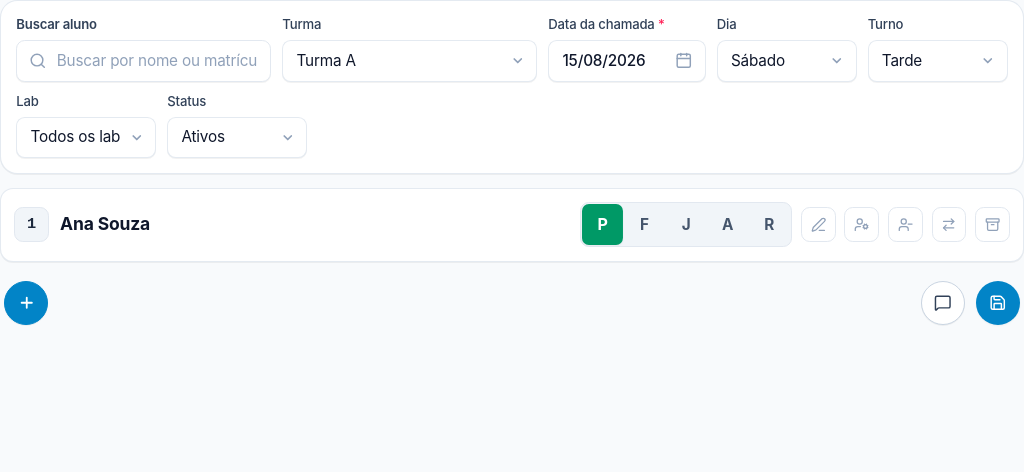
Test case: AttendancePage › searches by registration and exposes individual and general notes
Expected: the text "Ana Souza" is shown, 60,211 -> 150,238
Type "001" into the field named "Buscar aluno na chamada". click: (144, 61)
box: 16,40 -> 271,82
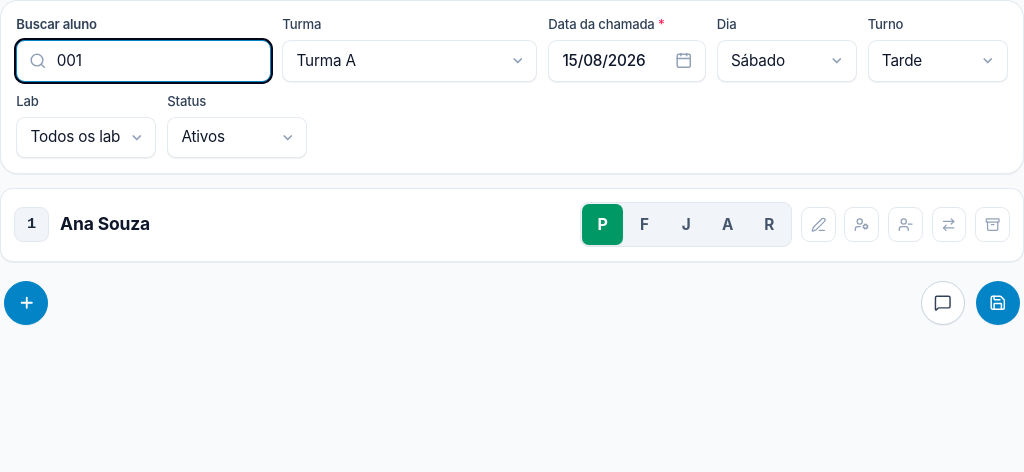
Expected: the text "Ana Souza" is shown, 60,211 -> 150,238
Replace the text in the field named "Buscar aluno na chamada" with "inexistente". click: (144, 61)
box: 16,40 -> 271,82
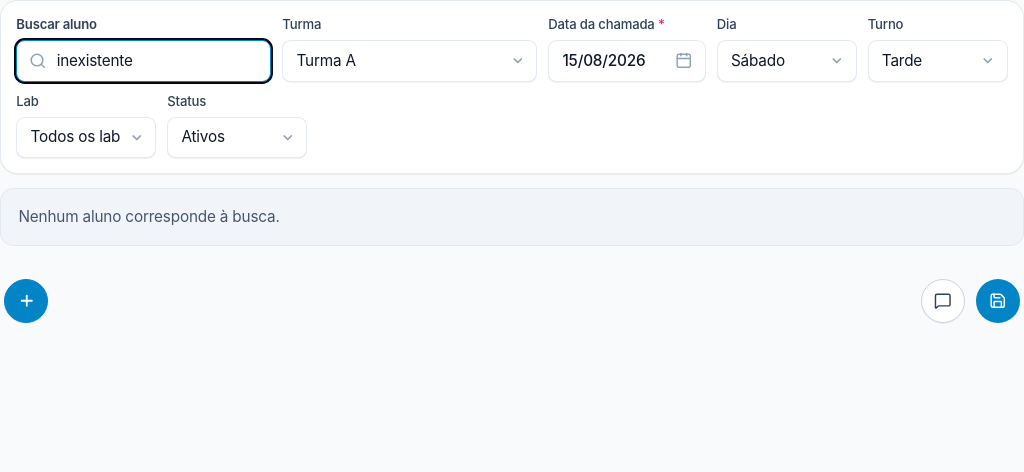
Result: the text "Nenhum aluno corresponde à busca." is shown at 0,188 -> 1023,246
Clear the field named "Buscar aluno na chamada". click: (144, 61)
box: 16,40 -> 271,82
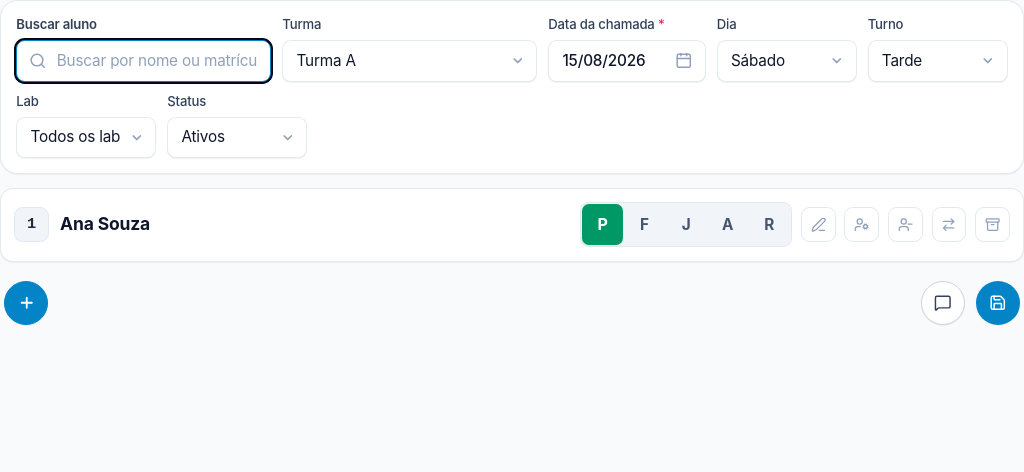
Click the button named "Anotação de Ana Souza". click: (818, 224)
box: 801,207 -> 836,242
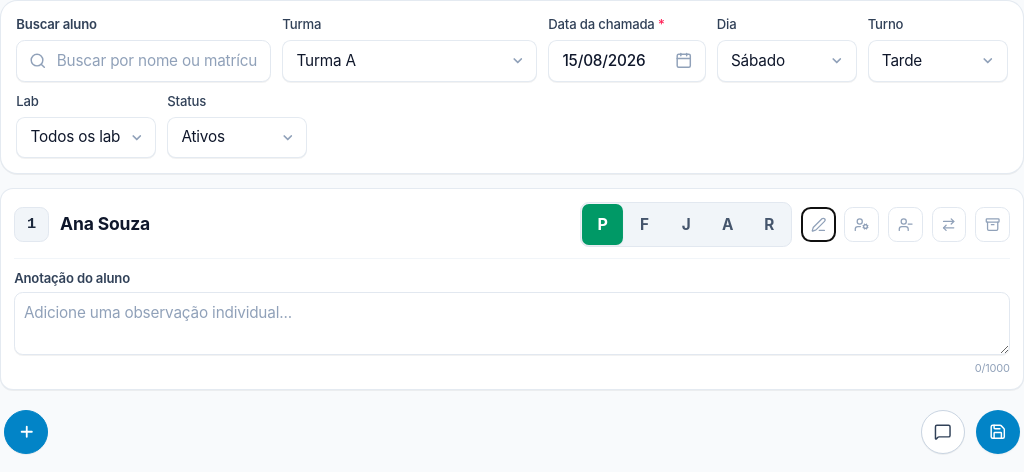
Result: the text box labelled "Anotação do aluno" is enabled at 14,292 -> 1010,355
